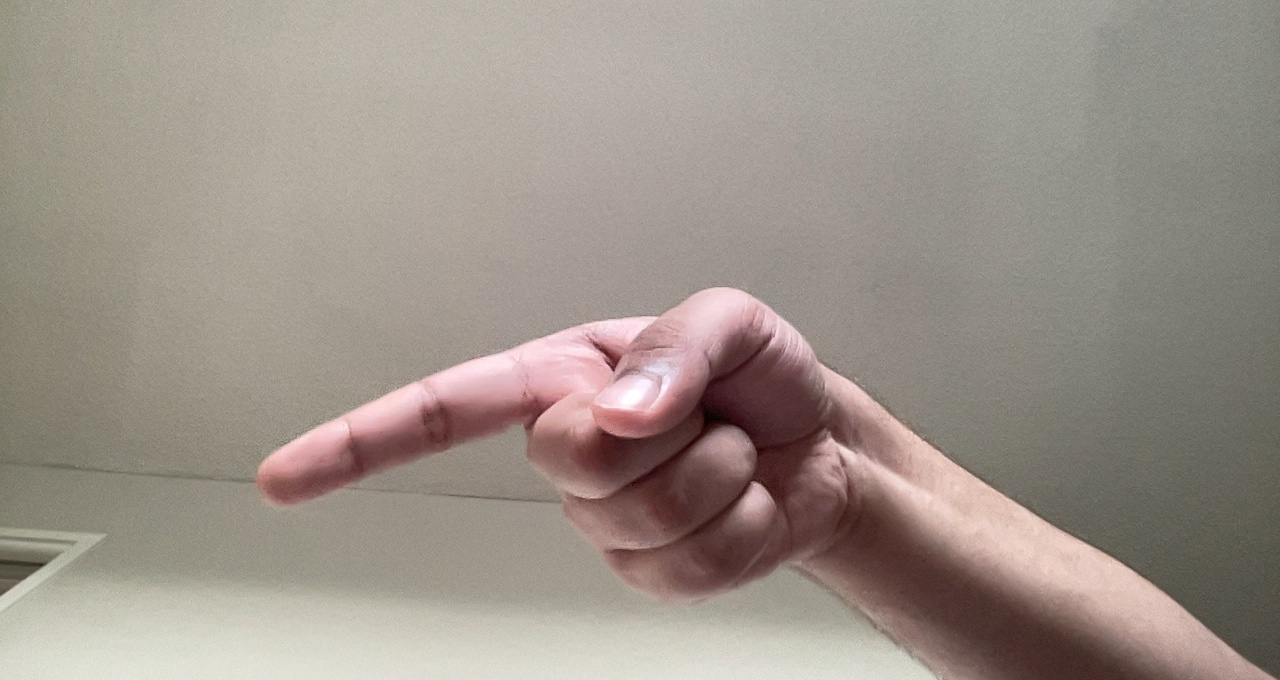fingerright: (246, 280, 860, 609)
